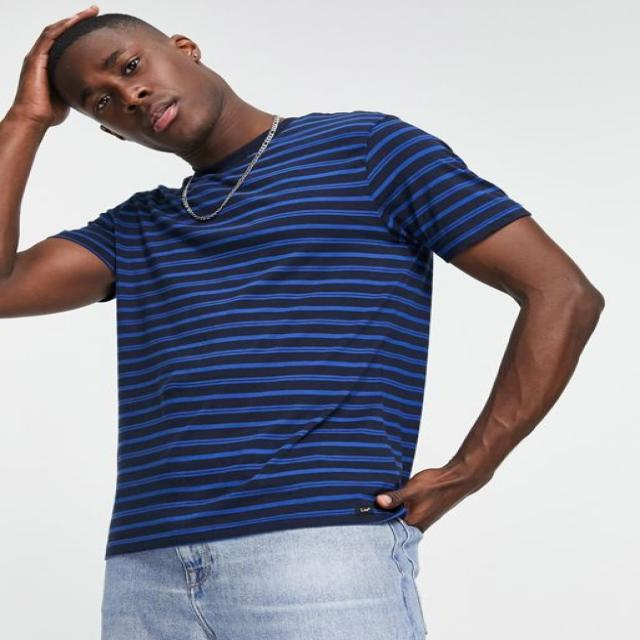tshirt: (54, 109, 526, 554)
